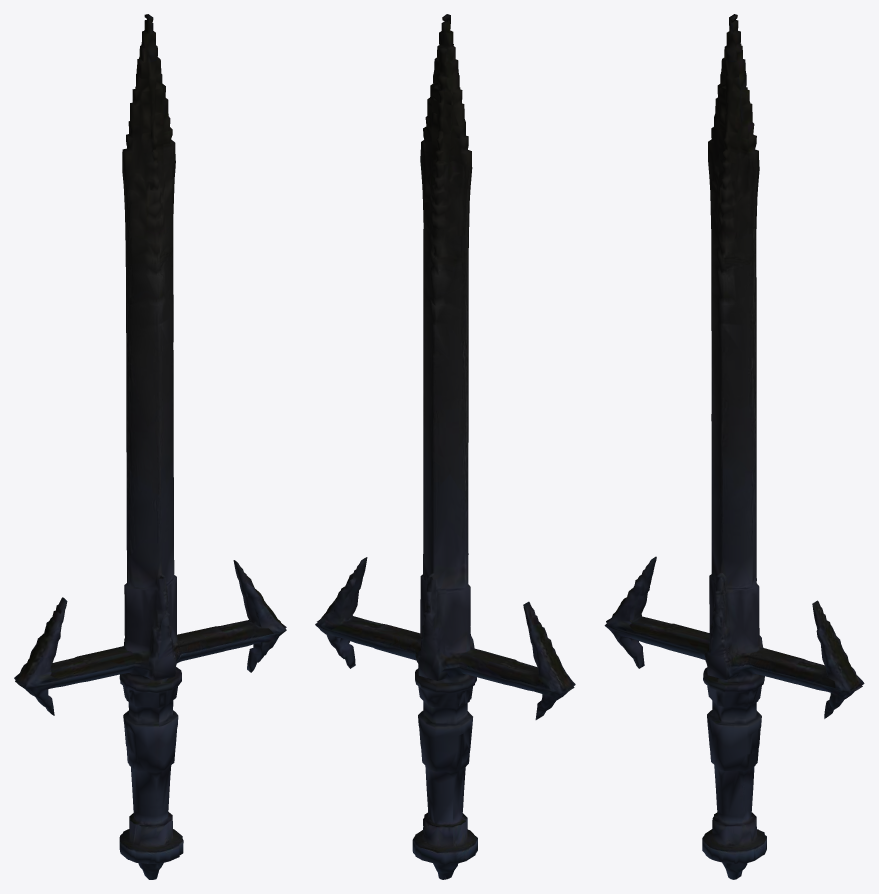
The model's file is espada-meia_noite-m66.glb.
The picture shows the model from 3 angles, left to right: view 1: azimuth 30°, elevation 25°; view 2: azimuth 150°, elevation 25°; view 3: azimuth 330°, elevation 25°; orthographic projection.
Size of the model in its own units: 0.3314 by 1.05 by 0.0725.
Materials: 1 (1 with a texture image).
